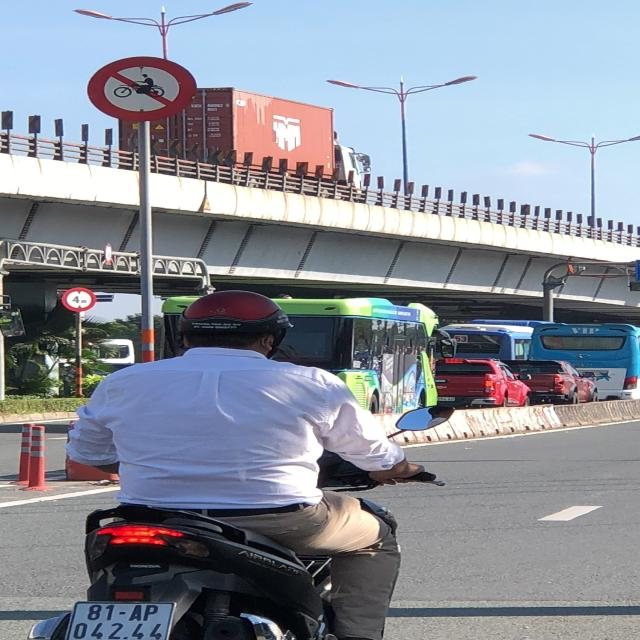Bien bao cam xe may: (84, 49, 195, 128)
